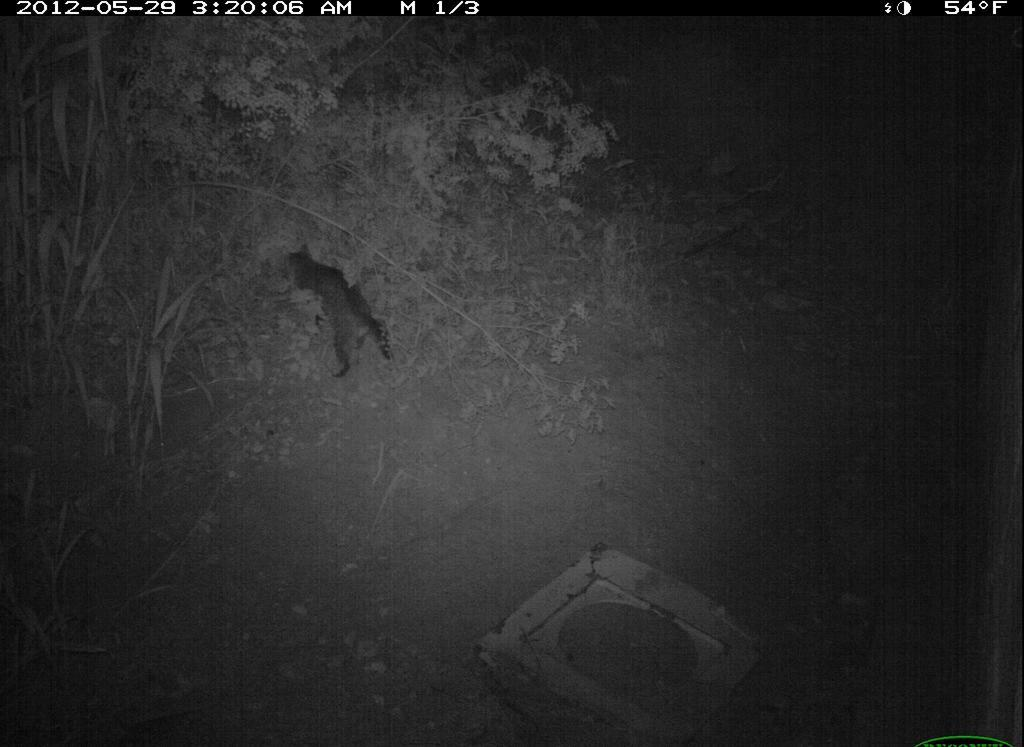cat: (280, 239, 406, 391)
